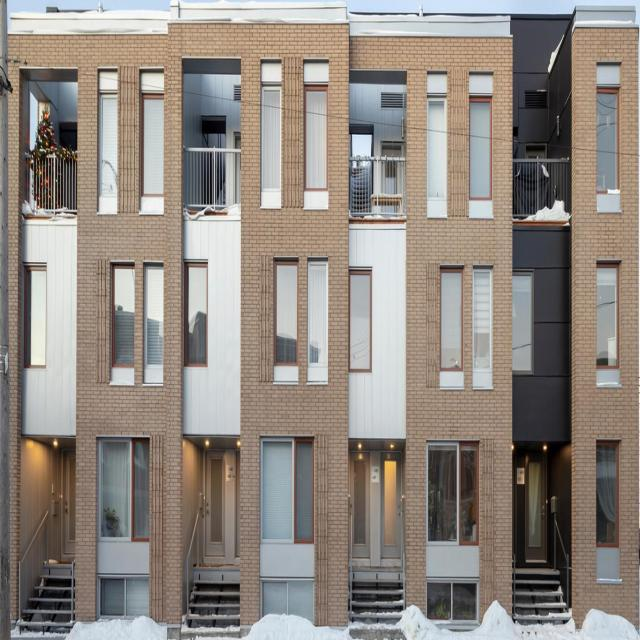Railing: (186, 150, 242, 218), (351, 160, 407, 220), (514, 162, 568, 218), (28, 159, 77, 215)
door: (350, 448, 402, 557), (204, 459, 240, 566), (515, 460, 548, 566), (58, 457, 74, 561)
wall: (9, 0, 638, 628)
windows: (428, 439, 478, 540), (262, 437, 312, 536), (100, 437, 128, 536), (595, 85, 620, 186), (596, 262, 618, 364), (425, 576, 477, 619), (440, 268, 462, 365), (276, 260, 297, 358), (185, 262, 206, 359), (25, 266, 46, 362), (350, 268, 370, 368), (113, 264, 134, 359), (306, 86, 326, 185), (144, 94, 164, 191), (596, 442, 616, 539), (99, 574, 150, 612), (470, 98, 490, 194), (472, 266, 491, 367), (309, 260, 327, 363), (428, 95, 446, 194), (264, 579, 312, 615), (512, 270, 530, 366), (263, 85, 280, 184), (146, 265, 163, 360), (101, 92, 117, 191), (133, 436, 148, 535)
